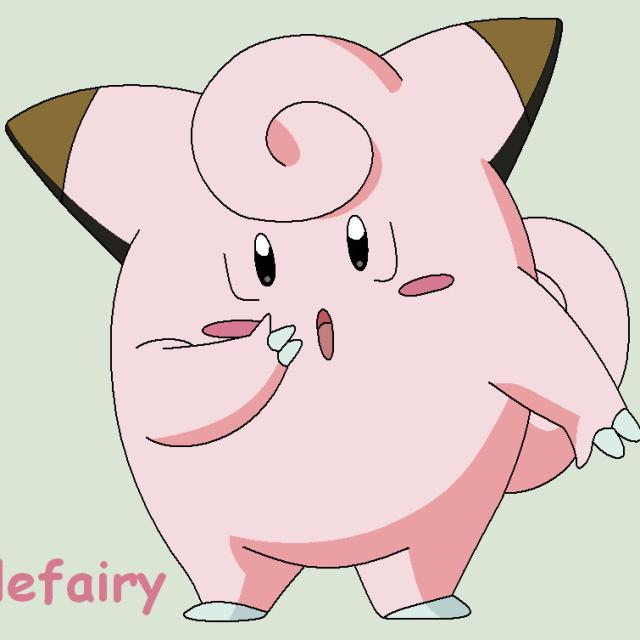Clefairy: (48, 15, 568, 619)
